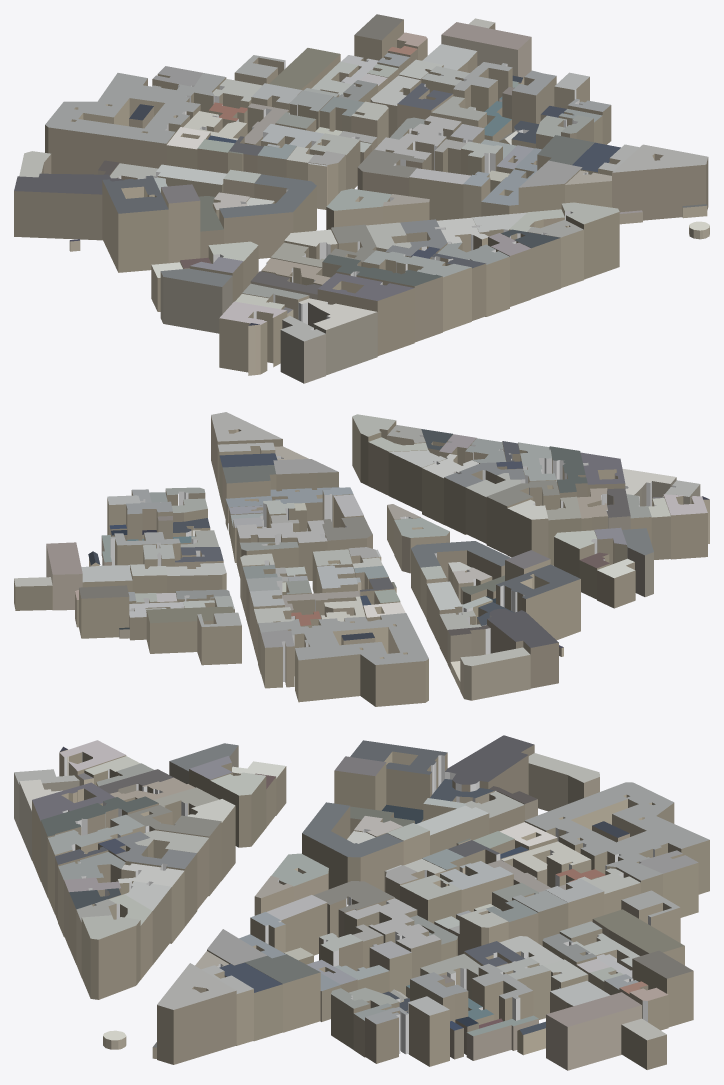
3 views of the same model, one above another, from view 1: azimuth 30°, elevation 25°; view 2: azimuth 150°, elevation 25°; view 3: azimuth 270°, elevation 25° (orthographic). The views are drawn at different scales.
Visible parts, largest first — view 1: tuile; view 2: tuile; view 3: tuile.
Part boxes in pixels (<box>): tuile: <box>14,14,709,383</box>; tuile: <box>14,412,709,706</box>; tuile: <box>14,735,709,1070</box>.
Size of the model in its own units: 271 by 31.81 by 274.
